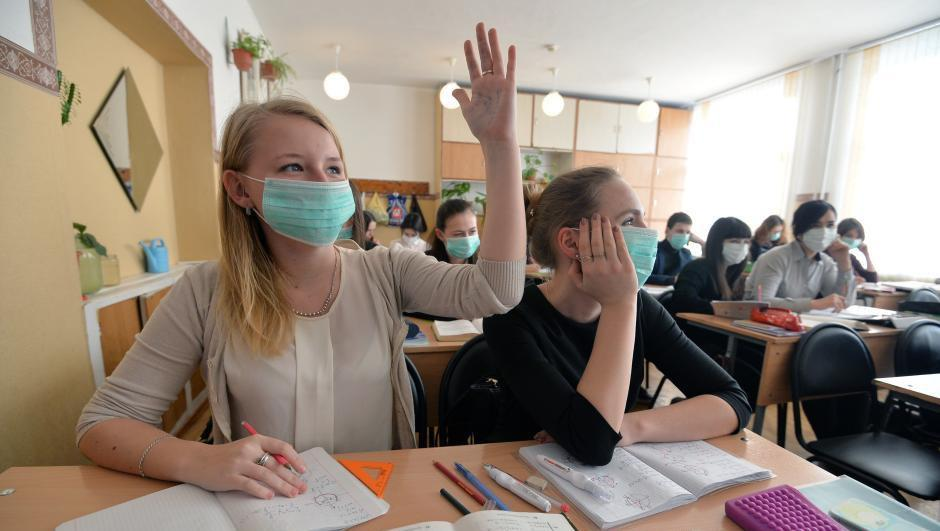OK: (255, 145, 350, 240), (569, 197, 659, 291), (446, 221, 479, 261), (800, 217, 836, 253), (720, 237, 754, 263), (670, 223, 692, 251), (841, 229, 864, 250), (402, 228, 422, 248)
